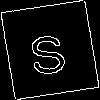S: (25, 25, 70, 77)
